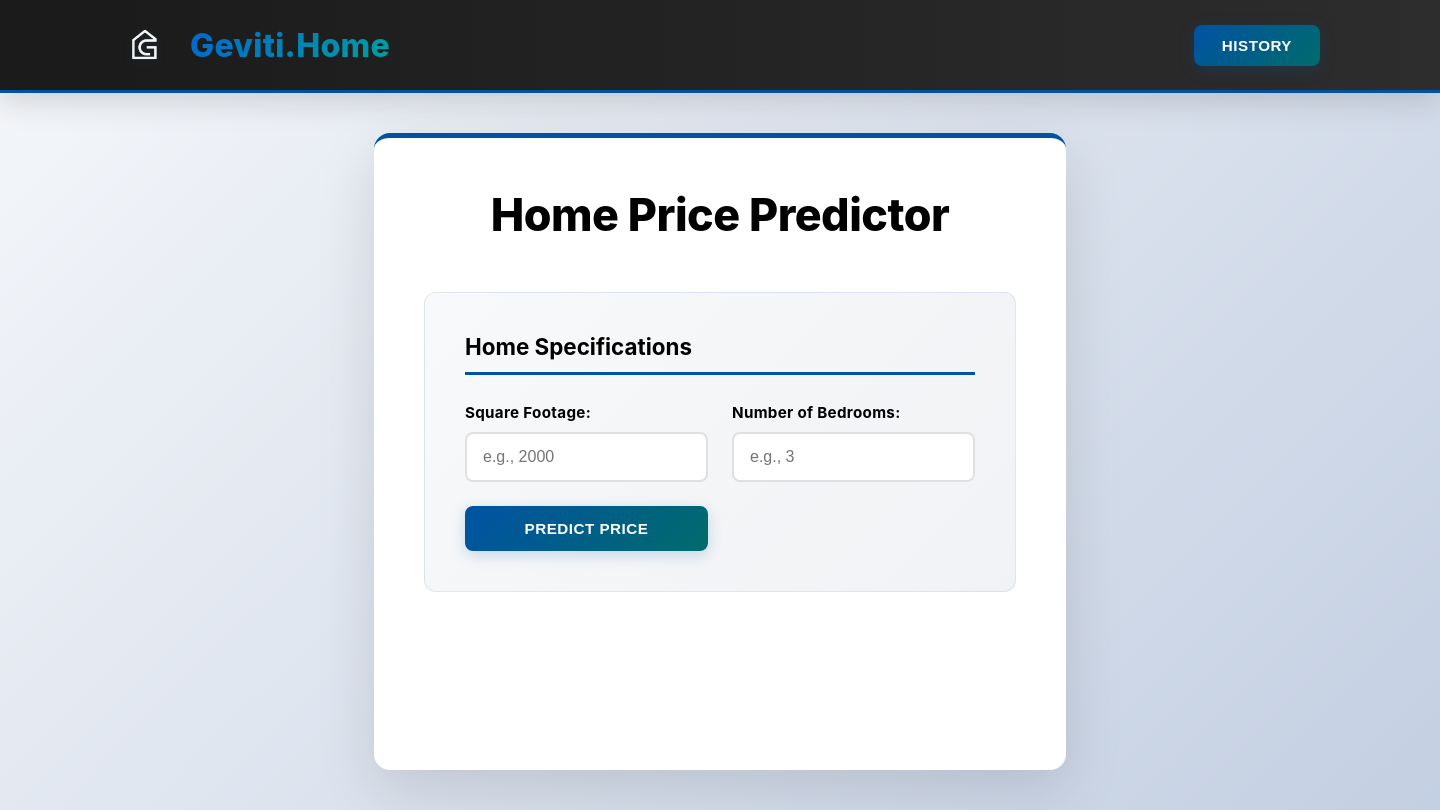
Scenario: Home Price Predictor App › displays prediction result after successful submission
Step 1. Type "2000" into the number field labelled "Square Footage:" → (586, 457), box [465, 432, 708, 482]
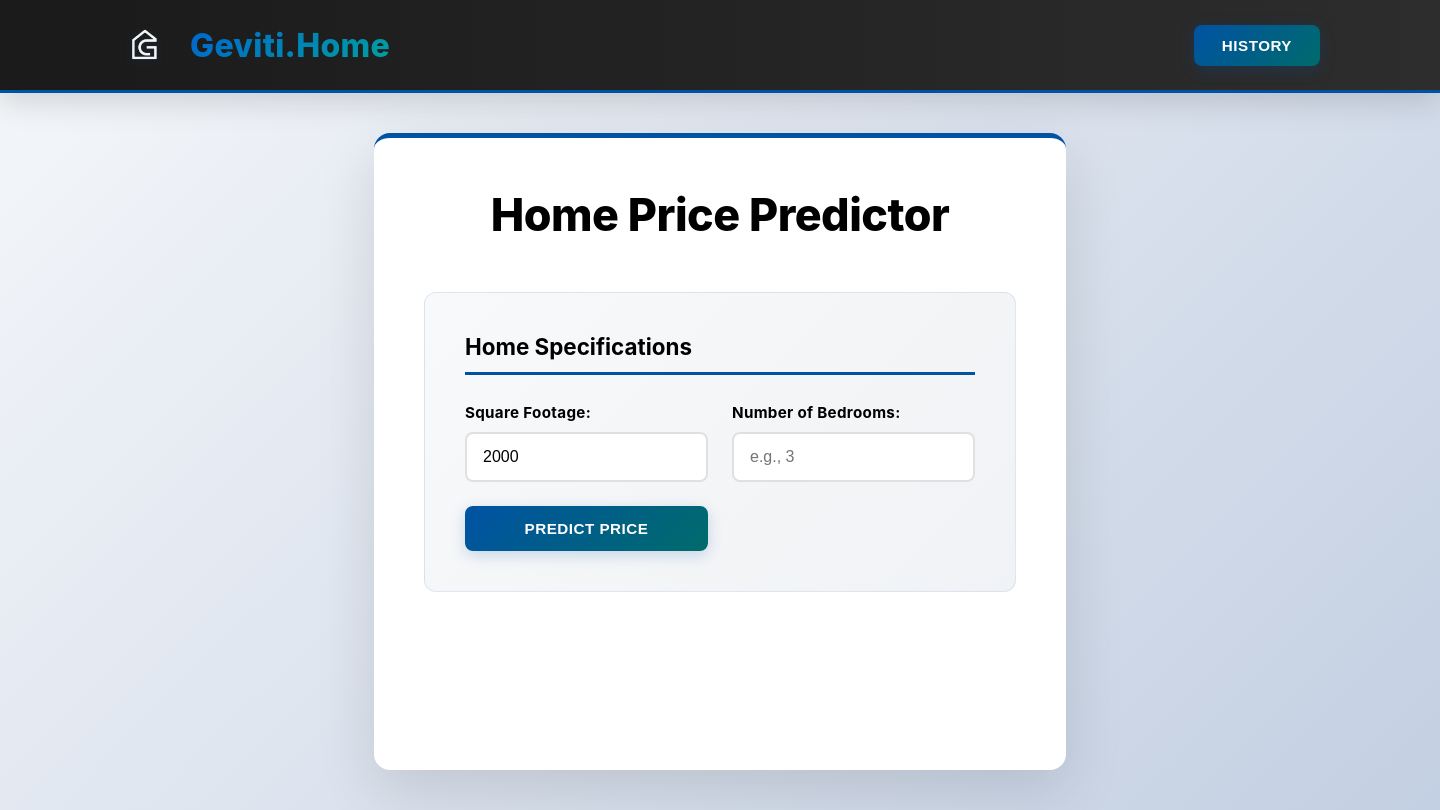
Step 2. Type "3" into the number field labelled "Number of Bedrooms:" → (854, 457), box [732, 432, 975, 482]
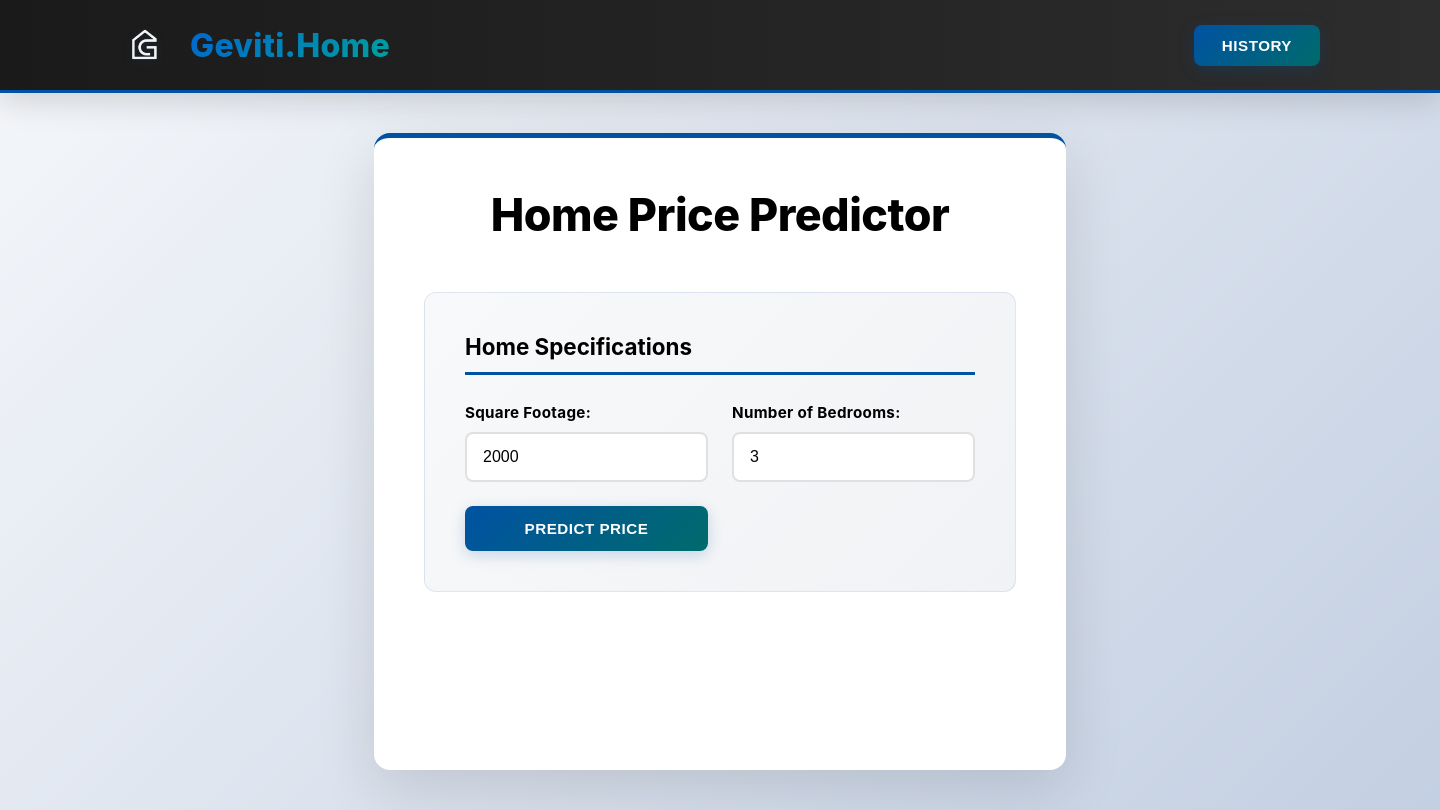
Step 3. Click the button "Predict Price" → (586, 528), box [465, 506, 708, 551]
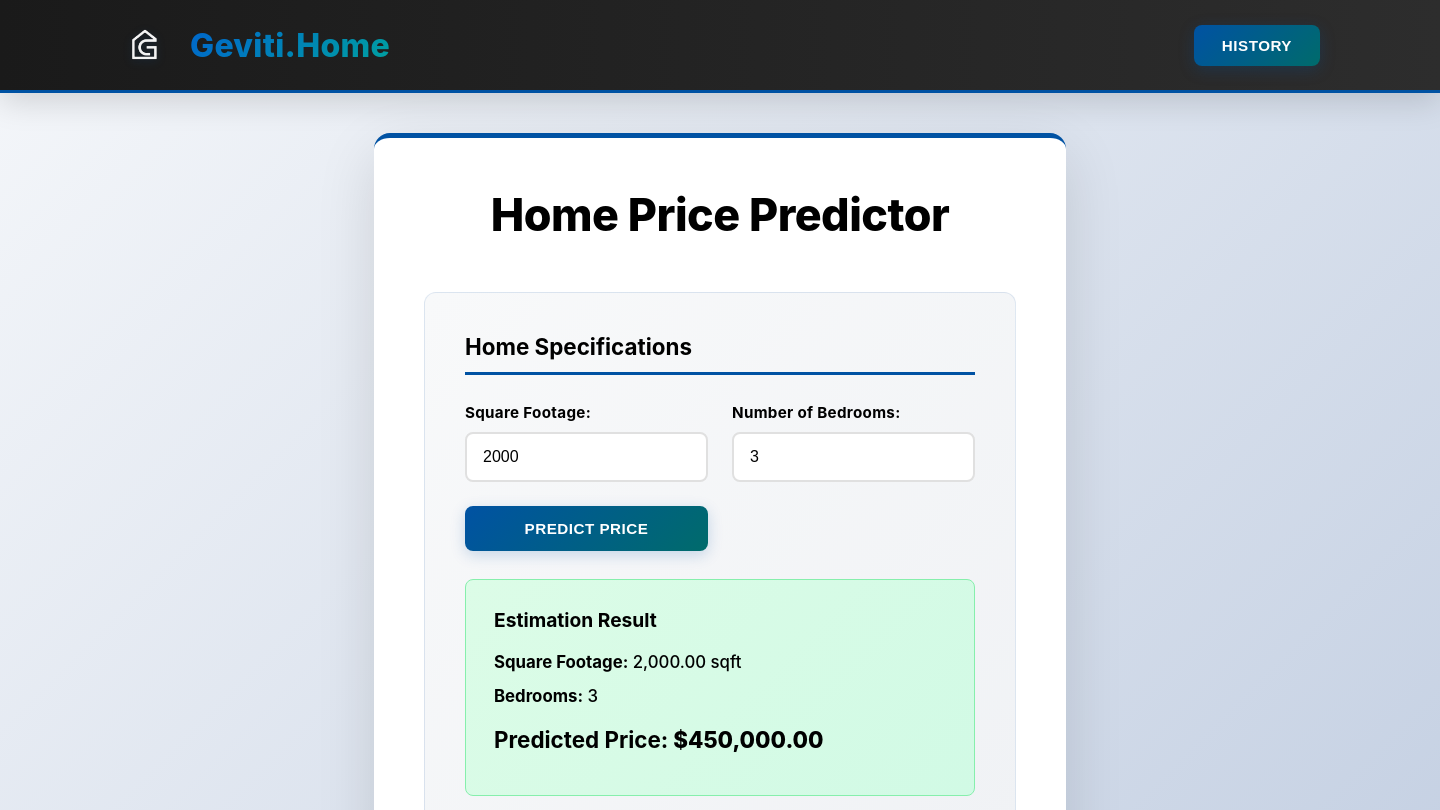
Check: the heading "Estimation Result" is shown, box [494, 608, 657, 632]
